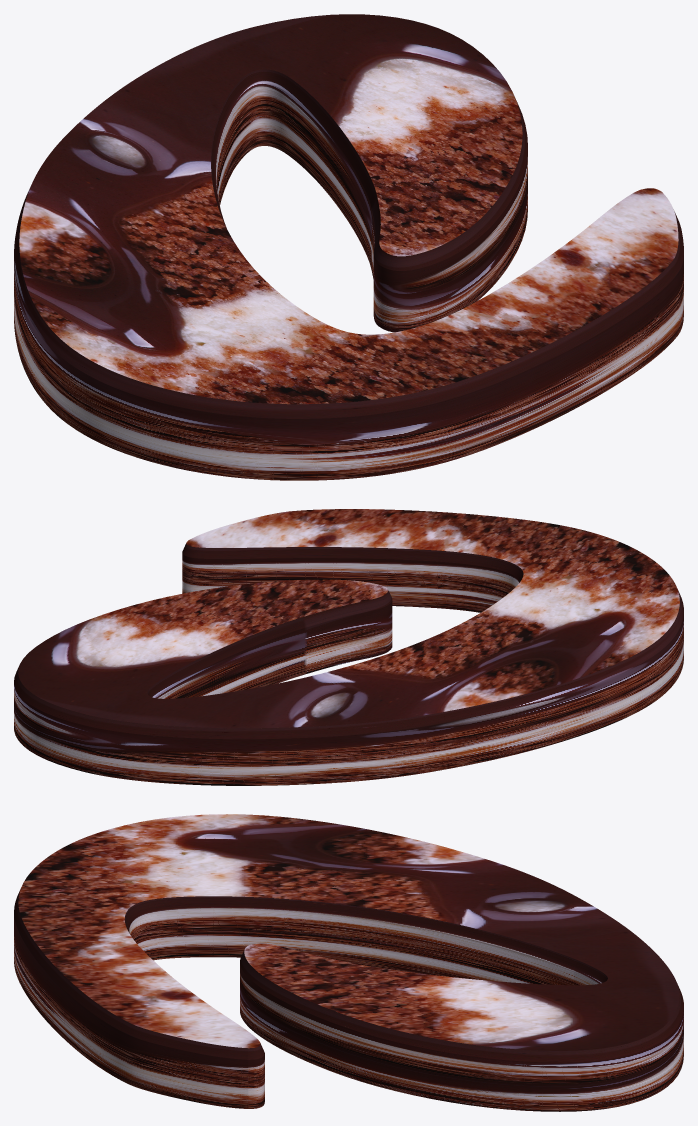
Rendered from myC.FBX.
The picture shows the model from 3 angles, top to bottom: view 1: azimuth 30°, elevation 25°; view 2: azimuth 150°, elevation 25°; view 3: azimuth 270°, elevation 25°; orthographic projection. The views are drawn at different scales.
Visible parts, largest first — view 1: myB; view 2: myB; view 3: myB.
Boxes of the visible parts, x1,y1,x2,y2 form: myB: (14, 14, 683, 480); myB: (14, 509, 683, 785); myB: (14, 814, 683, 1111).
Size of the model in its own units: 52.4 by 6 by 61.7.
1 material, 1 textured.
